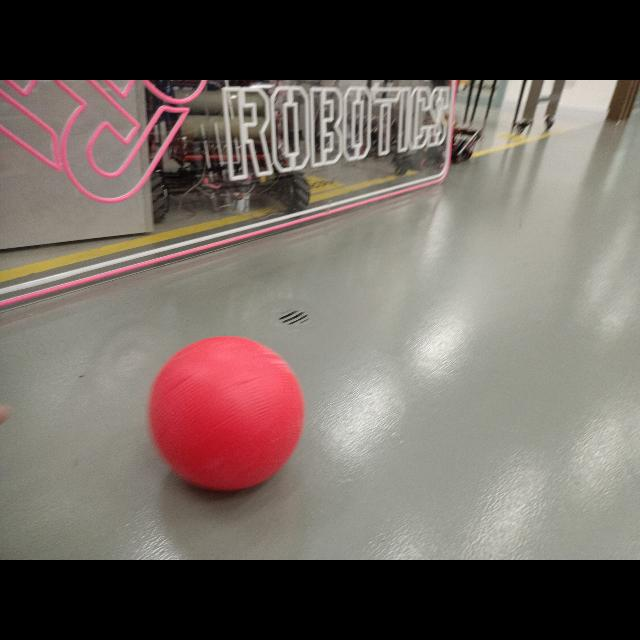R: (148, 335, 304, 489)
